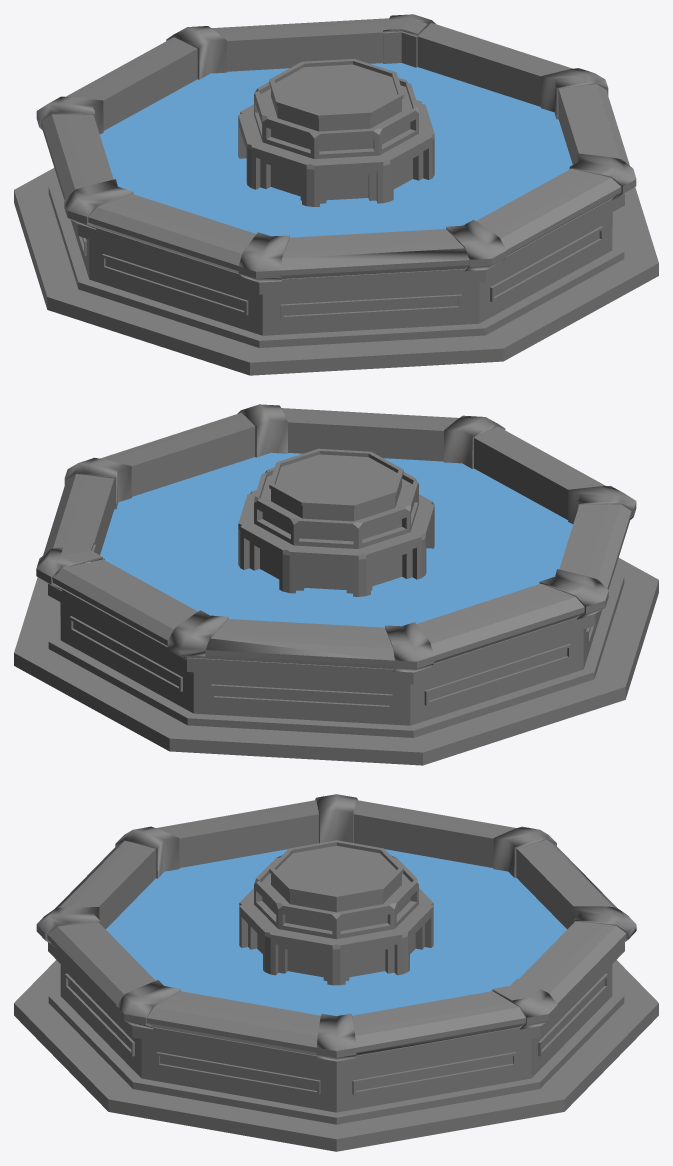
Rendered from faountain1.glb.
3 renders of one model, top to bottom at view 1: azimuth 30°, elevation 25°; view 2: azimuth 150°, elevation 25°; view 3: azimuth 270°, elevation 25°, orthographic. The views are drawn at different scales.
Visible parts, largest first — view 1: fountain1; view 2: fountain1; view 3: fountain1.
Part boxes in pixels (bbox=[...]): fountain1: bbox=[14, 14, 658, 375]; fountain1: bbox=[14, 404, 658, 765]; fountain1: bbox=[14, 794, 658, 1151].
Size of the model in its own units: 0.9968 by 0.2506 by 0.9968.
